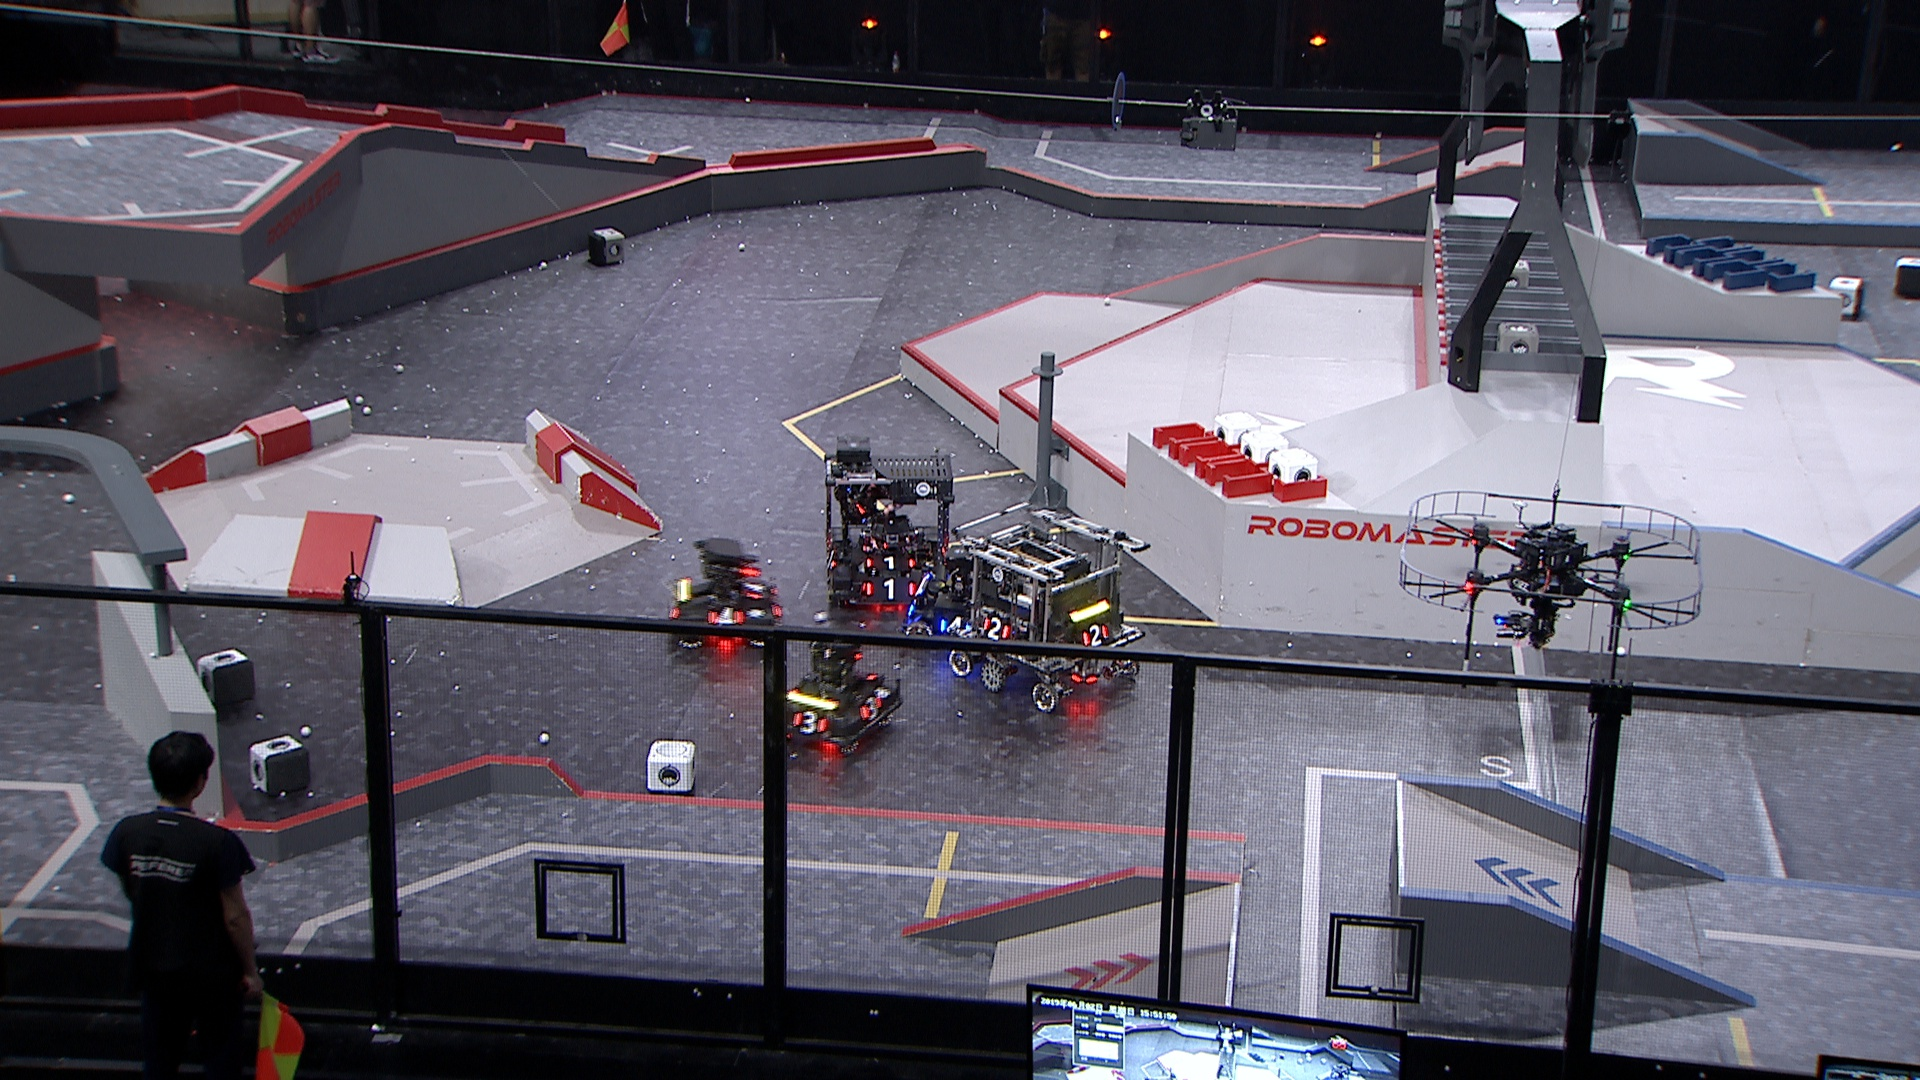armor: (865, 578, 918, 600), (793, 709, 832, 737), (938, 615, 977, 638), (1079, 622, 1112, 650), (861, 556, 915, 572), (982, 617, 1013, 644), (709, 607, 745, 629), (855, 694, 885, 719), (742, 576, 765, 600), (823, 550, 839, 574)
car: (944, 500, 1147, 709), (820, 434, 971, 609), (769, 636, 909, 756), (665, 535, 789, 647), (895, 545, 1025, 647)
